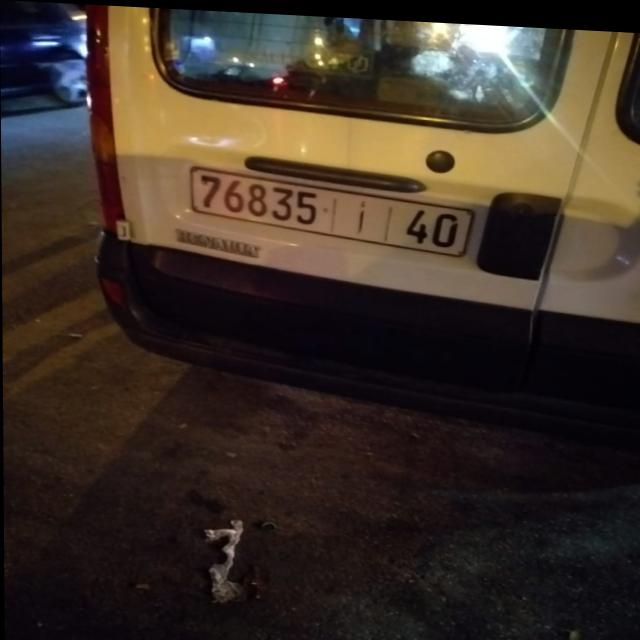License-Plate: (191, 165, 473, 250)
